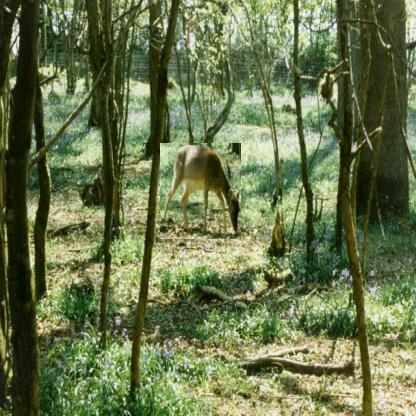Deer: (160, 143, 241, 239)
